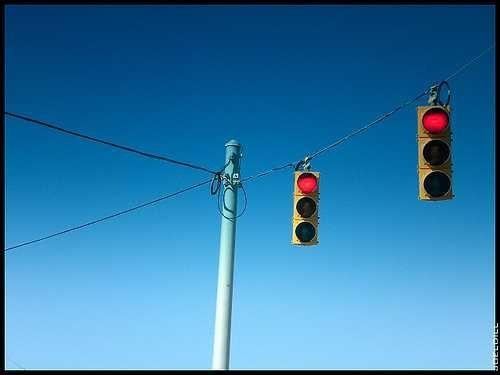red: (417, 102, 457, 203), (292, 166, 321, 246), (418, 102, 454, 139), (296, 166, 321, 196)
